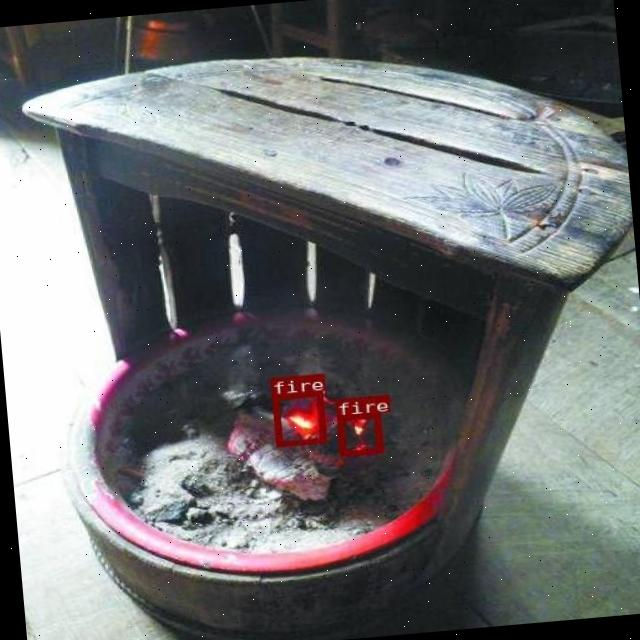fire: (272, 390, 326, 446), (336, 412, 381, 454)
